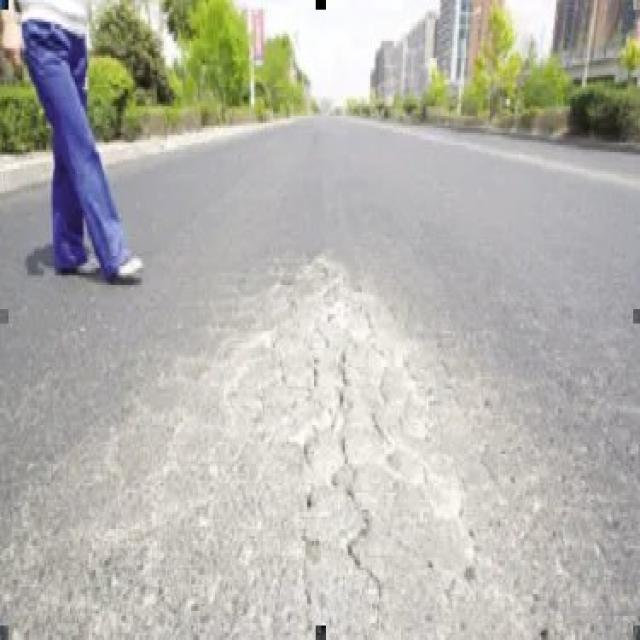Pothole: (278, 258, 423, 638)
